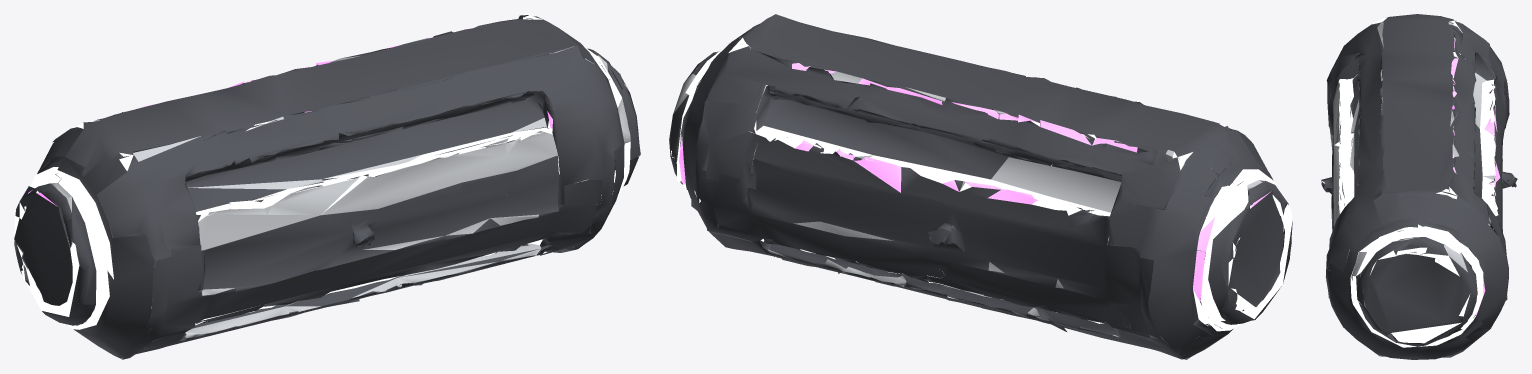
Rendered from SM_Recreation_v1_slots.fbx.
3 renders of one model, left to right at view 1: azimuth 30°, elevation 25°; view 2: azimuth 150°, elevation 25°; view 3: azimuth 270°, elevation 25°, orthographic. The views are drawn at different scales.
Visible parts, largest first — view 1: SM_Recreation; view 2: SM_Recreation; view 3: SM_Recreation.
Part boxes in pixels (bbox=[...]): SM_Recreation: bbox=[14, 14, 640, 359]; SM_Recreation: bbox=[669, 14, 1292, 359]; SM_Recreation: bbox=[1321, 14, 1517, 359].
Bounding box in the file's own units: 1.93 × 0.6921 × 0.7299.
